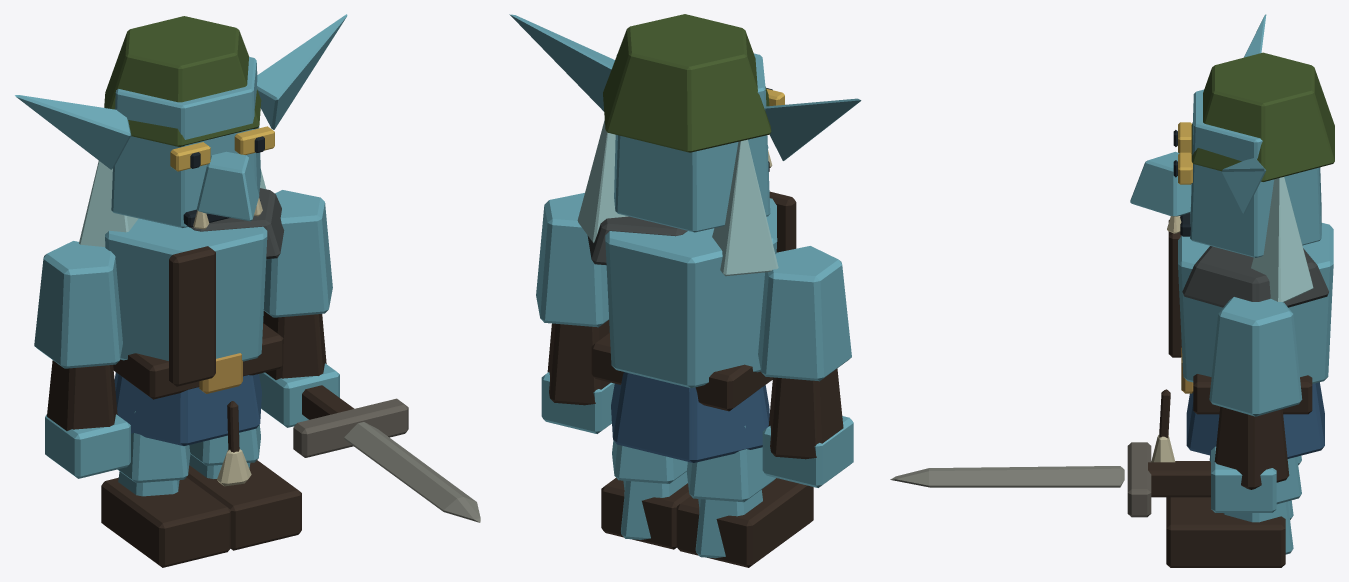
The model's file is revenant.glb.
3 views of the same model, side by side, from view 1: azimuth 30°, elevation 25°; view 2: azimuth 150°, elevation 25°; view 3: azimuth 270°, elevation 25° (orthographic). The views are drawn at different scales.
Parts seen in each view (by area): view 1: head.007, torso.007, pelvis.007, upper_arm_l.007, shin_l.007, weapon.007, forearm_l.007, upper_arm_r.007, shin_r.007, forearm_r.007, thigh_l.007, thigh_r.007 (+1 smaller); view 2: head.007, torso.007, pelvis.007, upper_arm_l.007, forearm_l.007, shin_l.007, upper_arm_r.007, forearm_r.007, shin_r.007, thigh_l.007, thigh_r.007; view 3: head.007, torso.007, upper_arm_r.007, weapon.007, shin_r.007, forearm_r.007, pelvis.007, talisman.003, thigh_r.007.
Part boxes in pixels (box(x1,y1,x2,y2)): head.007: box(15, 14, 347, 246); torso.007: box(105, 188, 284, 386); pelvis.007: box(113, 323, 283, 445); upper_arm_l.007: box(34, 241, 122, 368); shin_l.007: box(101, 471, 230, 567); weapon.007: box(293, 385, 480, 522); forearm_l.007: box(45, 360, 130, 478); upper_arm_r.007: box(263, 190, 332, 317); shin_r.007: box(186, 454, 301, 550); forearm_r.007: box(259, 311, 339, 427); thigh_l.007: box(117, 411, 190, 483); thigh_r.007: box(189, 425, 260, 465); head.007: box(509, 14, 861, 276); torso.007: box(587, 191, 796, 388); pelvis.007: box(591, 333, 772, 462); upper_arm_l.007: box(758, 246, 851, 381); forearm_l.007: box(762, 368, 853, 487); shin_l.007: box(676, 478, 813, 567); upper_arm_r.007: box(536, 193, 609, 327); forearm_r.007: box(541, 320, 614, 433); shin_r.007: box(601, 471, 690, 549); thigh_l.007: box(686, 426, 775, 502); thigh_r.007: box(612, 440, 687, 483); head.007: box(1130, 14, 1334, 302); torso.007: box(1168, 217, 1333, 383); upper_arm_r.007: box(1209, 297, 1302, 416); weapon.007: box(890, 442, 1210, 517); shin_r.007: box(1166, 497, 1293, 567); forearm_r.007: box(1211, 406, 1289, 512); pelvis.007: box(1181, 347, 1324, 458); talisman.003: box(1151, 389, 1175, 462); thigh_r.007: box(1276, 457, 1301, 504).
Bounding box in the file's own units: 1.24 × 1.7 × 1.49.
